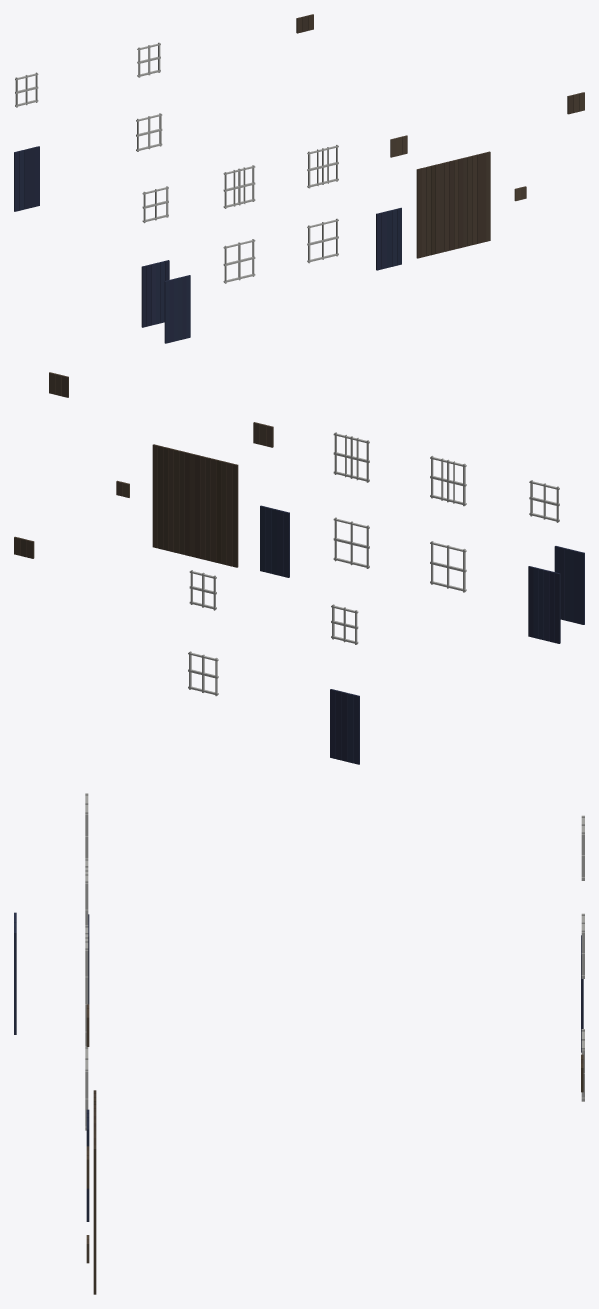
The model's file is SM_Bld_008_Wood.glb.
3 renders of one model, top to bottom at view 1: azimuth 30°, elevation 25°; view 2: azimuth 150°, elevation 25°; view 3: azimuth 270°, elevation 25°, orthographic. The views are drawn at different scales.
Visible parts, largest first — view 1: SM_Bld_008_Wood; view 2: SM_Bld_008_Wood; view 3: SM_Bld_008_Wood.
Part boxes in pixels (<box>): SM_Bld_008_Wood: <box>14,14,584,343</box>; SM_Bld_008_Wood: <box>14,372,584,764</box>; SM_Bld_008_Wood: <box>14,793,584,1294</box>.
Size of the model in its own units: 15.66 by 4.57 by 10.66.
